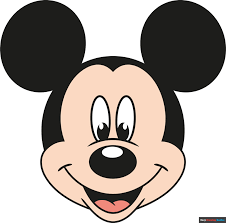mickeymouse: (8, 4, 192, 218)
